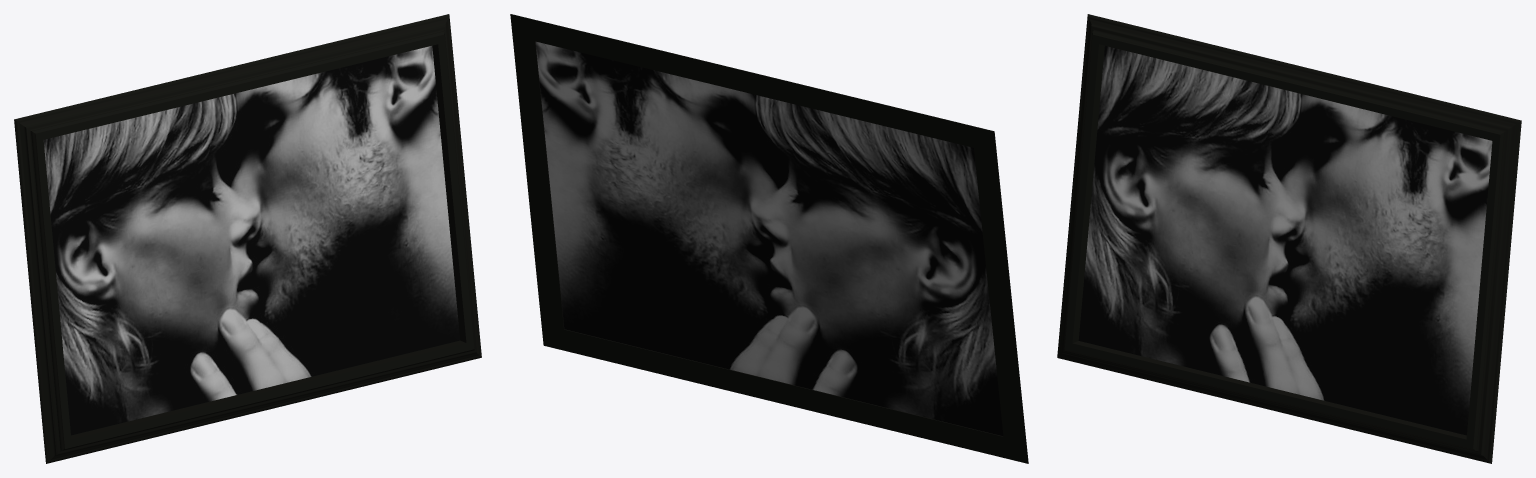
File: photo-frame-2.obj
3 renders of one model, left to right at view 1: azimuth 30°, elevation 25°; view 2: azimuth 150°, elevation 25°; view 3: azimuth 330°, elevation 25°, orthographic. The views are drawn at different scales.
Parts seen in each view (by area): view 1: Lifestyle_099; view 2: Lifestyle_099; view 3: Lifestyle_099.
Boxes of the visible parts, x1,y1,x2,y2 form: Lifestyle_099: [14, 14, 481, 463]; Lifestyle_099: [510, 14, 1028, 463]; Lifestyle_099: [1057, 14, 1521, 463].
Bounding box in the file's own units: 20.92 × 14.74 × 3.09.
2 materials, 1 textured.
